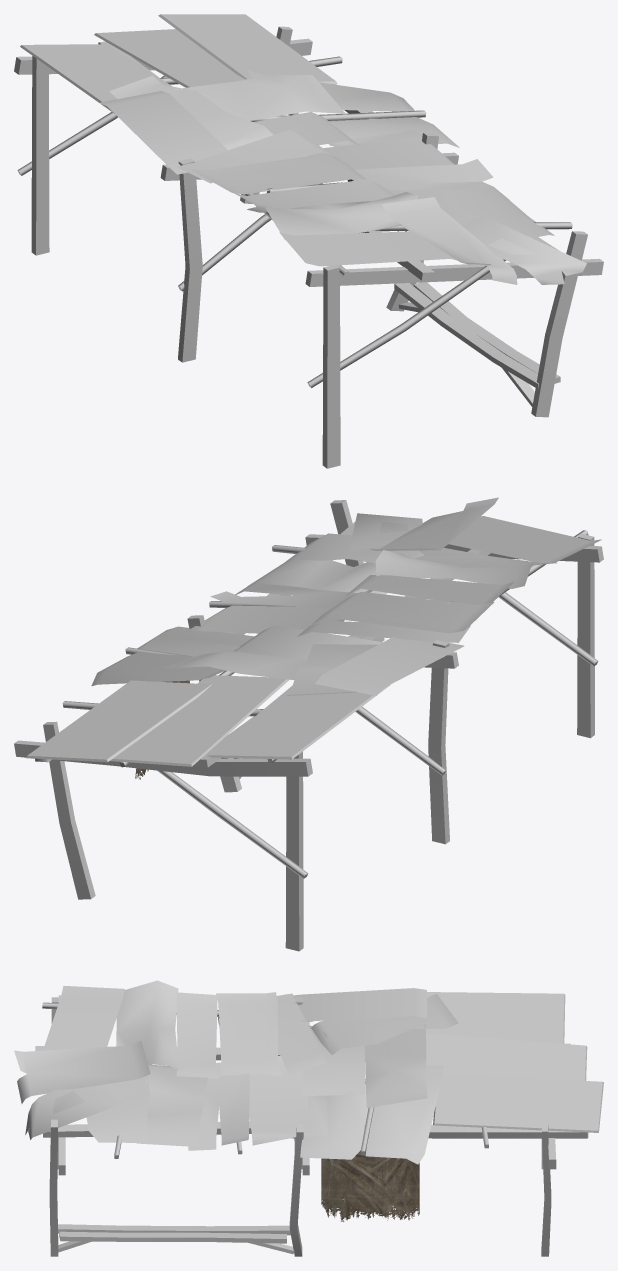
The model's file is LeanTo_03.fbx.
3 renders of one model, top to bottom at view 1: azimuth 30°, elevation 25°; view 2: azimuth 150°, elevation 25°; view 3: azimuth 270°, elevation 25°, orthographic. The views are drawn at different scales.
Parts seen in each view (by area): view 1: polySurface1; view 2: polySurface1; view 3: polySurface1.
Boxes of the visible parts, <box> form: polySurface1: <box>14,14,603,468</box>; polySurface1: <box>14,497,603,951</box>; polySurface1: <box>14,980,603,1256</box>.
Size of the model in its own units: 663 by 462 by 1334.
